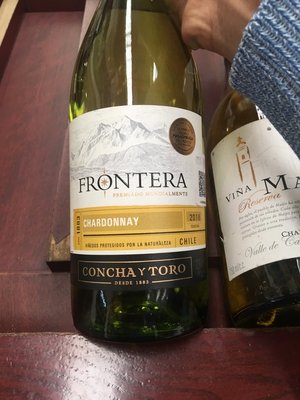frontera chardonnay: (68, 11, 208, 344)
